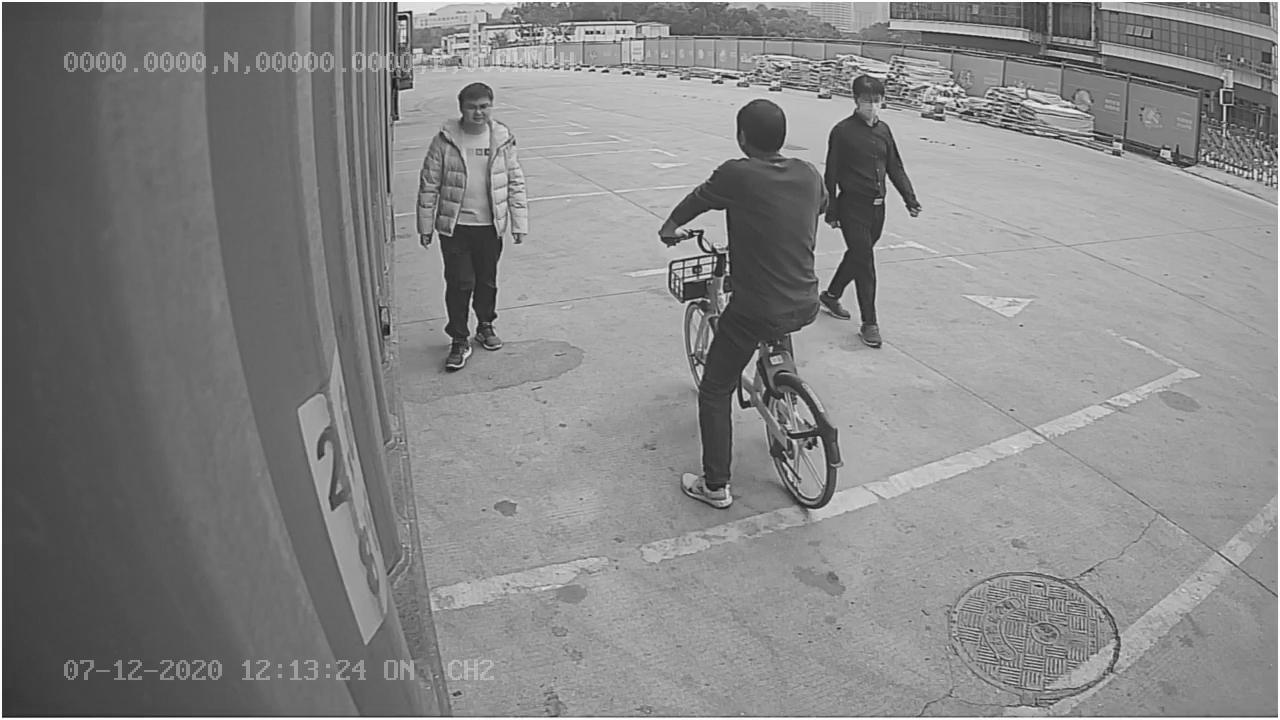person: (415, 80, 534, 373)
